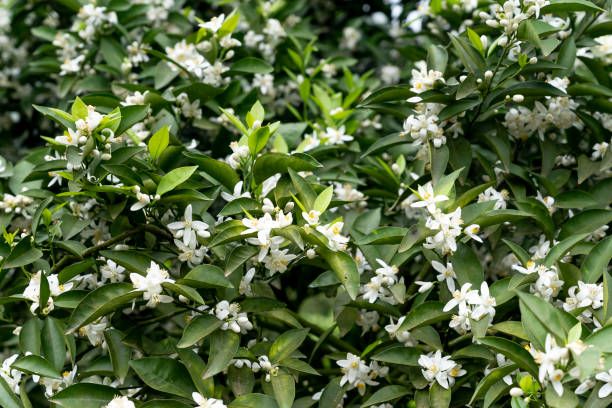flower: (521, 332, 576, 395), (164, 204, 215, 251), (461, 278, 501, 323), (418, 353, 459, 392), (315, 221, 357, 257), (441, 279, 472, 324), (410, 182, 451, 216), (425, 255, 461, 293), (434, 214, 469, 252), (332, 355, 373, 387), (140, 258, 174, 295), (48, 123, 91, 152), (242, 215, 276, 250), (405, 113, 441, 146), (248, 232, 285, 263), (381, 315, 415, 347), (171, 237, 207, 267), (575, 278, 605, 312), (403, 68, 438, 97), (267, 248, 298, 279), (351, 281, 390, 305), (373, 258, 403, 288), (141, 290, 180, 312), (521, 233, 550, 261), (126, 266, 153, 296), (543, 363, 568, 395), (98, 260, 131, 284), (247, 70, 278, 95), (183, 55, 218, 77), (120, 87, 148, 114), (190, 390, 231, 408), (55, 53, 89, 74), (192, 15, 234, 32), (296, 131, 323, 156), (327, 123, 355, 147), (595, 362, 612, 401), (217, 181, 256, 198), (517, 105, 542, 129), (443, 363, 467, 387), (559, 285, 580, 312), (513, 259, 546, 276), (130, 190, 152, 214), (302, 207, 326, 226), (492, 186, 507, 216), (245, 28, 263, 52), (474, 188, 493, 202)
